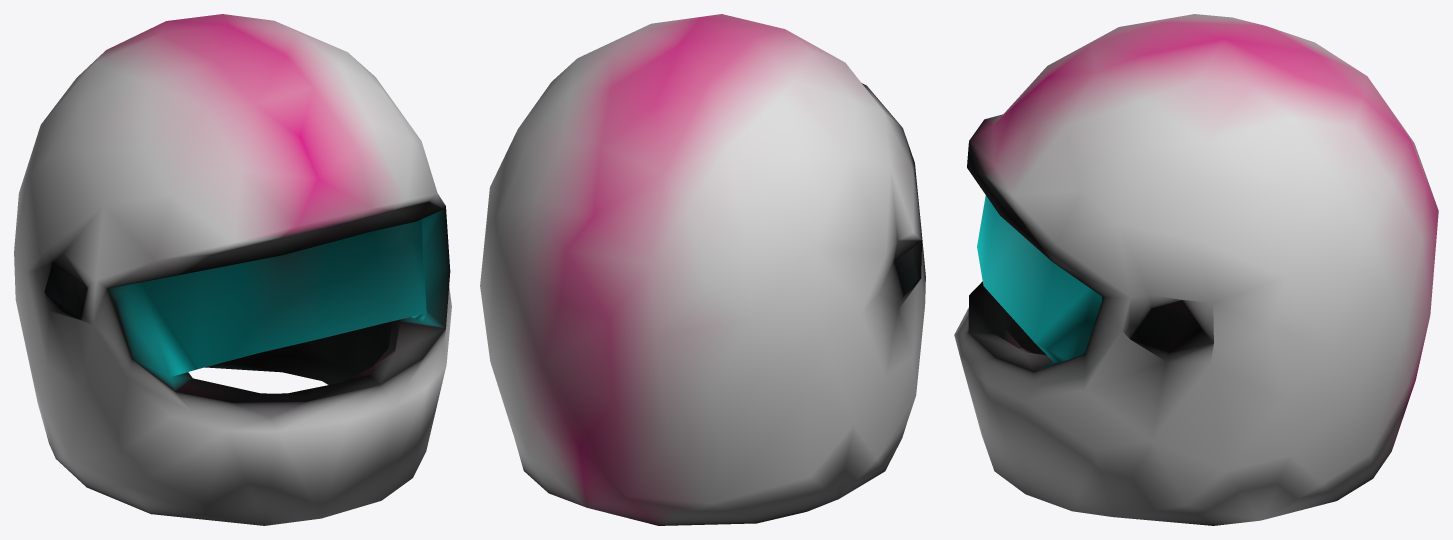
Rendered from hat_kart_helmet.glb.
The picture shows the model from 3 angles, left to right: view 1: azimuth 30°, elevation 25°; view 2: azimuth 150°, elevation 25°; view 3: azimuth 270°, elevation 25°; orthographic projection. The views are drawn at different scales.
Parts seen in each view (by area): view 1: geometry_0; view 2: geometry_0; view 3: geometry_0.
Boxes of the visible parts, x1,y1,x2,y2 form: geometry_0: [14, 14, 451, 525]; geometry_0: [480, 14, 925, 525]; geometry_0: [954, 14, 1438, 525].
Size of the model in its own units: 0.8038 by 0.8089 by 0.86.
